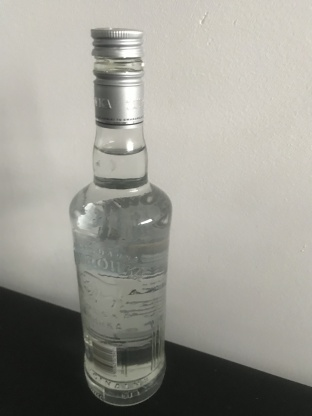nakretka: (89, 26, 145, 129)
